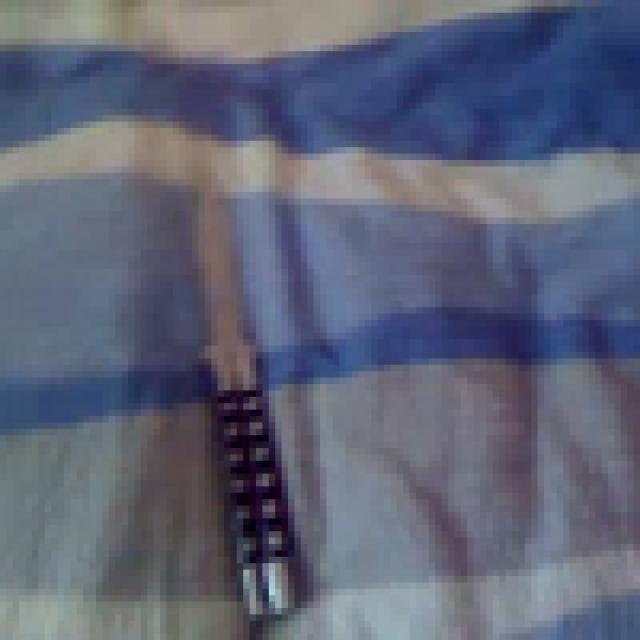Knife: (154, 140, 326, 628)
